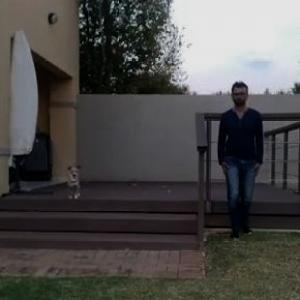follow: (216, 76, 264, 246)
